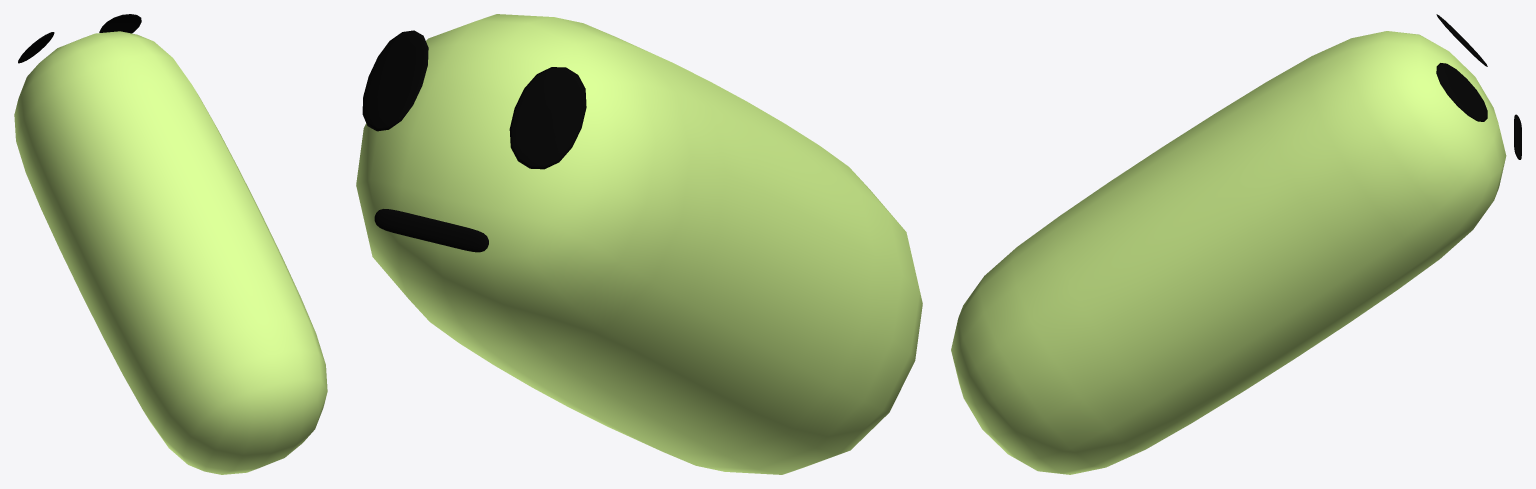
File: stickbug.glb
The picture shows the model from 3 angles, left to right: view 1: azimuth 30°, elevation 25°; view 2: azimuth 150°, elevation 25°; view 3: azimuth 270°, elevation 25°; orthographic projection. The views are drawn at different scales.
Visible parts, largest first — view 1: stikbug; view 2: stikbug; view 3: stikbug.
Boxes of the visible parts, bbox=[...] form: stikbug: bbox=[14, 14, 327, 474]; stikbug: bbox=[356, 14, 922, 474]; stikbug: bbox=[951, 14, 1521, 474].
Bounding box in the file's own units: 0.1791 × 0.3388 × 0.4145.
1 material, 1 textured.
